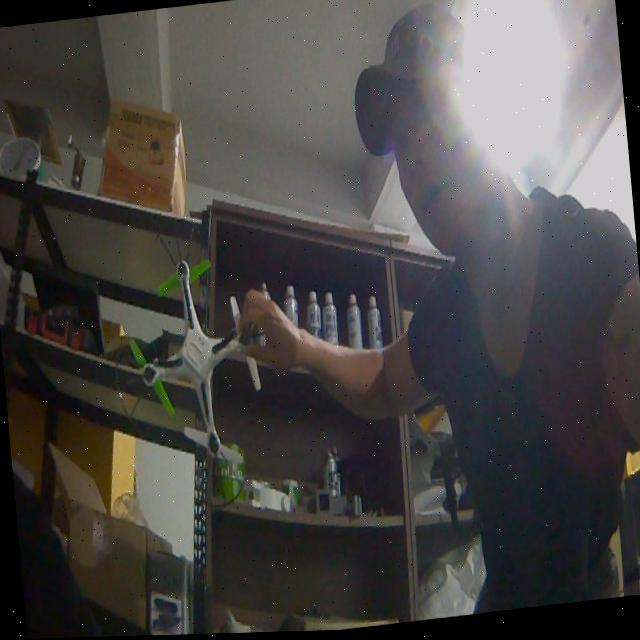drone: (101, 208, 295, 524)
